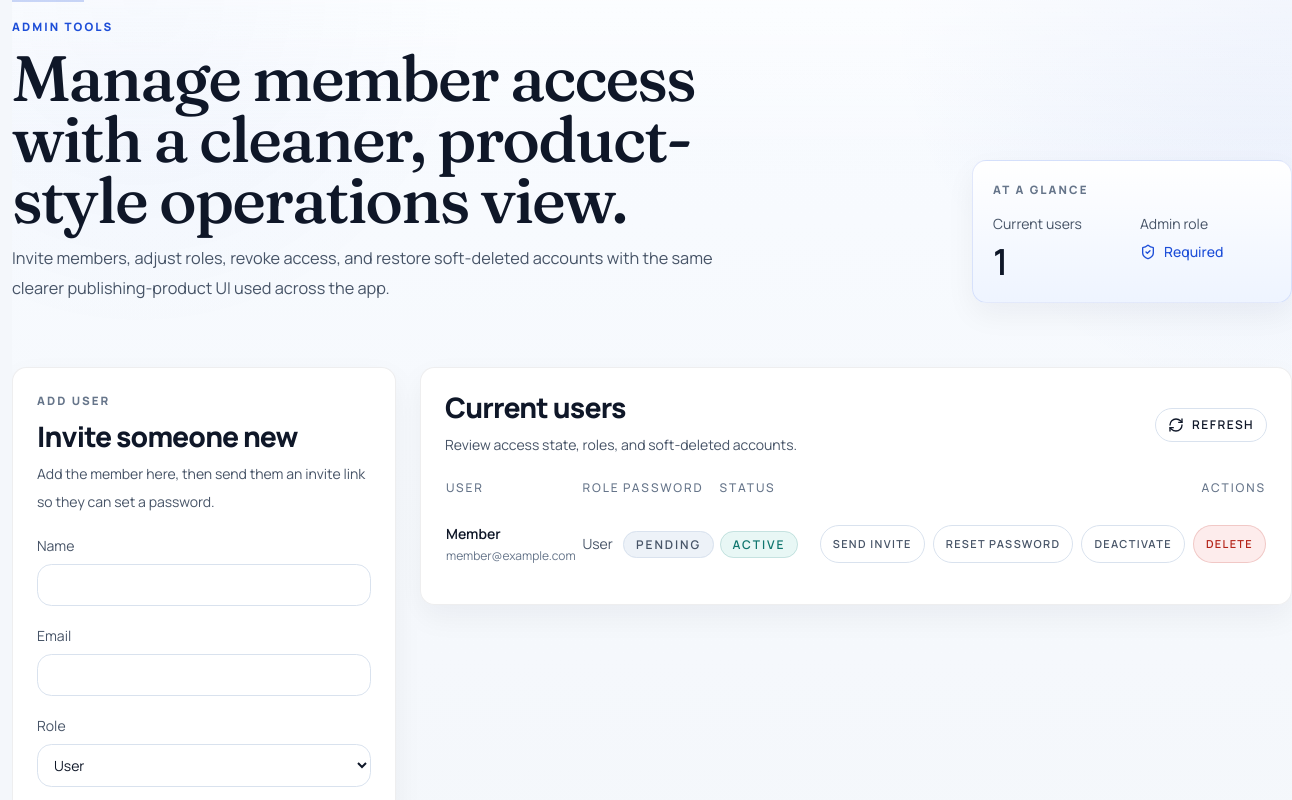
Test: AdminUsersPage › shows password status and can send an invite link
The width and height of the screenshot is (1292, 800).
Expected: the text "Pending" is shown, [623,531,714,558]
Click the button "Send invite".
click(872, 544)  # box [820,525,925,563]
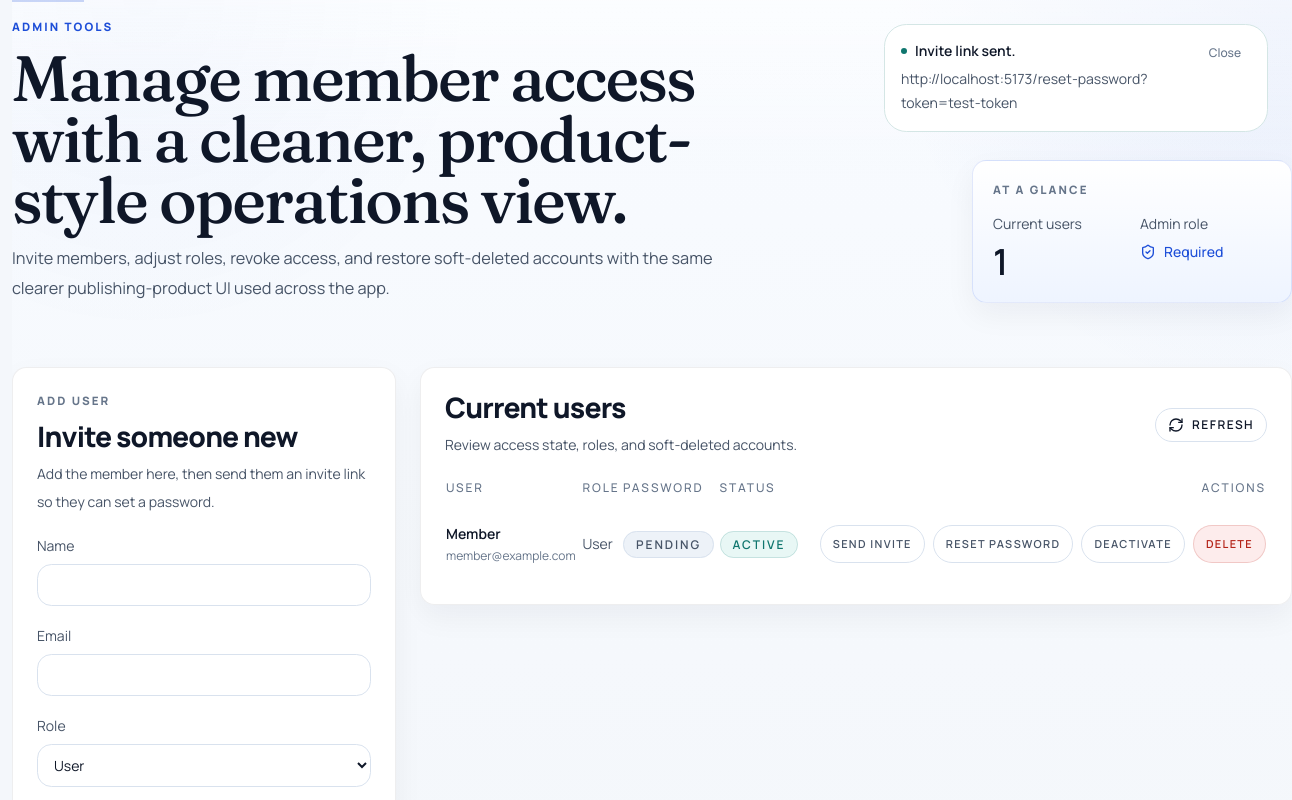
Now the text "http://localhost:5173/reset-password?token=test-token" is shown, box [901,67,1187,115]
